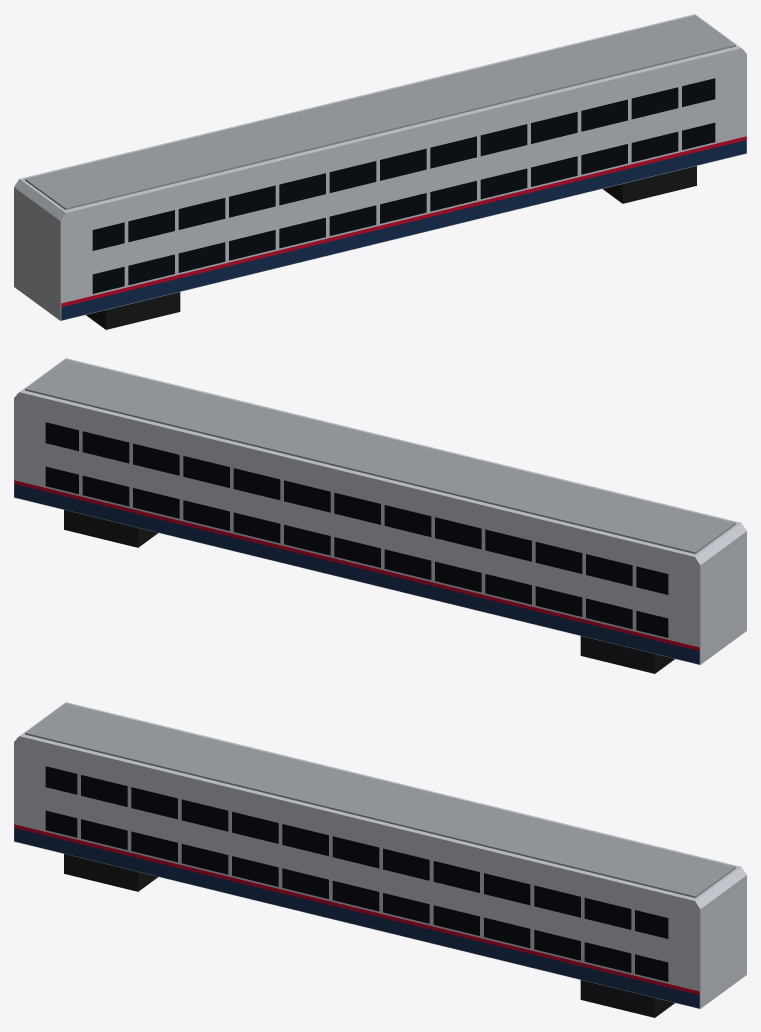
The model's file is superliner.glb.
3 views of the same model, one above another, from view 1: azimuth 30°, elevation 25°; view 2: azimuth 150°, elevation 25°; view 3: azimuth 330°, elevation 25° (orthographic).
Parts seen in each view (by area): view 1: superliner; view 2: superliner; view 3: superliner.
Part boxes in pixels (x1,y1,x2,y2): superliner: (14, 14, 746, 329); superliner: (14, 358, 746, 673); superliner: (14, 702, 746, 1017).
Bounding box in the file's own units: 25.9 × 4.71 × 3.08.
